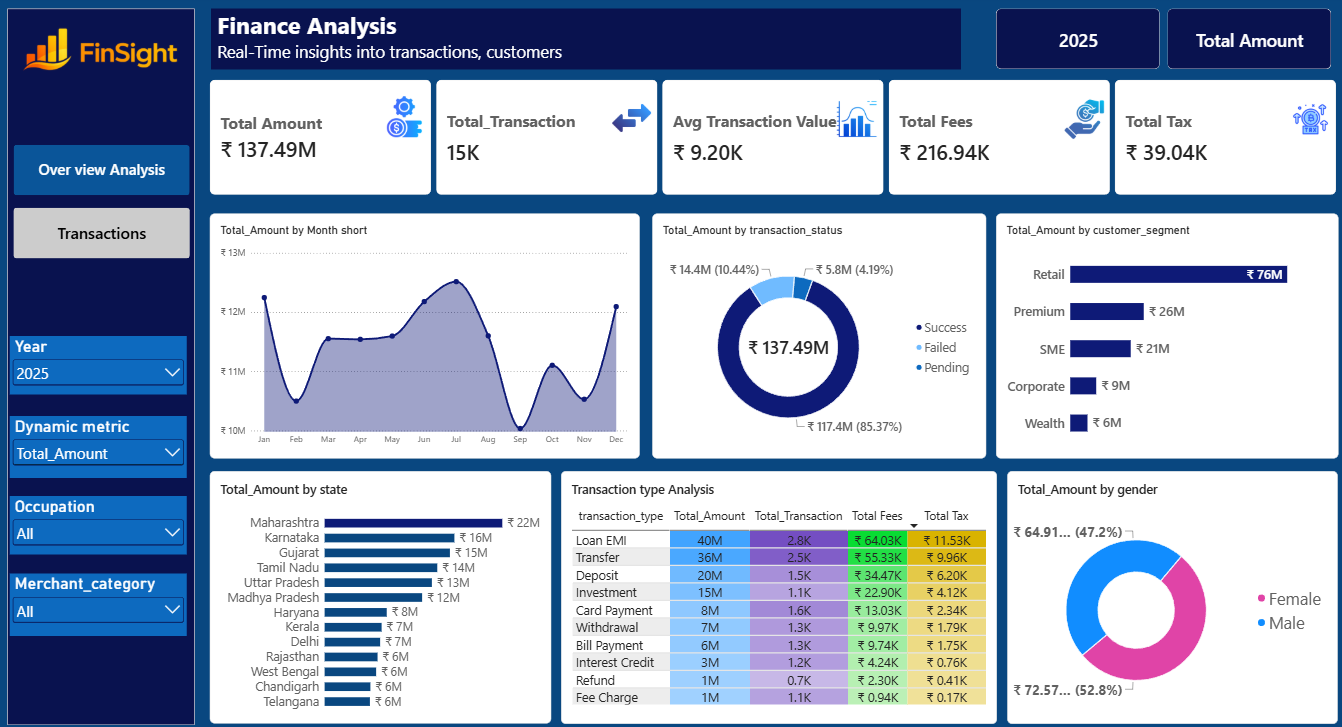

What the dashboard file says about the page in this screenshot:
{"tool":"powerbi","page":{"name":"Over view Analysis","canvas":[2200,1190],"ordinal":0},"visuals":[{"type":"cardVisual","fields":{"Data":["finance_transactions.Total_Amount","finance_transactions.Total_Transaction","finance_transactions.Avg Transaction Value","finance_transactions.Total fees","finance_transactions.Total Tax"]},"box":[350,134.9,1806,184],"z":0},{"type":"areaChart","fields":{"Y":["finance_transactions.Total_Amount"],"Category":["Calendar_Table.Month short"]},"box":[350,348.9,688,392],"z":1000},{"type":"clusteredBarChart","fields":{"Y":["finance_transactions.Total_Amount"],"Category":["customers.customer_segment"]},"box":[1608,348.9,548,392],"z":2000},{"type":"tableEx","title":"Transaction type Analysis","fields":{"Values":["finance_transactions.transaction_type","finance_transactions.Total_Amount","finance_transactions.Total_Transaction","finance_transactions.Total Fees","finance_transactions.Total Tax"]},"box":[911.1,760.9,697.8,404.4],"z":3000},{"type":"donutChart","fields":{"Y":["finance_transactions.Total_Amount"],"Category":["customers.gender"]},"box":[1626.7,760.9,528.9,404.4],"z":4000},{"type":"donutChart","fields":{"Y":["finance_transactions.Total_Amount"],"Category":["finance_transactions.transaction_status"]},"box":[1058,348.9,534,392],"z":5000},{"type":"clusteredBarChart","fields":{"Y":["finance_transactions.Total_Amount"],"Category":["customers.state"]},"box":[350,760.9,546,404],"z":6000},{"type":"shape","box":[26.7,20,300,1146.7],"z":7000},{"type":"slicer","fields":{"Values":["customers.occupation"]},"box":[29.6,800.4,283.3,93.3],"z":8000},{"type":"slicer","fields":{"Values":["finance_transactions.merchant_category"]},"box":[29.6,923.8,283.3,100],"z":9000},{"type":"slicer","fields":{"Values":["Dynamic metric.Dynamic metric"]},"box":[29.6,671.6,283.3,98.9],"z":10000},{"type":"slicer","fields":{"Values":["Calendar_Table.Year"]},"box":[29.6,544.9,283.3,93.3],"z":11000},{"type":"pageNavigator","box":[35.6,237.8,282.2,182.2],"z":12000},{"type":"image","box":[28.9,35.6,300,100],"z":13000},{"type":"textbox","box":[352.1,20.8,1200,97.9],"z":14000},{"type":"cardVisual","fields":{"Data":["finance_transactions.Selected Year","finance_transactions.Selected Dynamic Measure"]},"box":[1607.5,20,537.5,97.5],"z":15000},{"type":"image","box":[628.9,138.9,66,110.4],"z":16000},{"type":"image","box":[992.2,140,66,110],"z":17000},{"type":"image","box":[1352.9,141.4,66.7,110],"z":18000},{"type":"image","box":[1715.7,141.4,66,110],"z":19000},{"type":"image","box":[2077.1,142.9,66,110],"z":20000}]}

Visuals, with their boxes in screenshot pixels (x1, y1, x2, y2), scaled from the page's 2200x1190 canvas onto the 1342x727 screenshot:
cardVisual - finance_transactions.Total_Amount x finance_transactions.Total_Transaction: bbox=[214, 82, 1315, 195]
areaChart - finance_transactions.Total_Amount x Calendar_Table.Month short: bbox=[214, 213, 633, 453]
clusteredBarChart - finance_transactions.Total_Amount x customers.customer_segment: bbox=[981, 213, 1315, 453]
"Transaction type Analysis" tableEx: bbox=[556, 465, 981, 712]
donutChart - finance_transactions.Total_Amount x customers.gender: bbox=[992, 465, 1315, 712]
donutChart - finance_transactions.Total_Amount x finance_transactions.transaction_status: bbox=[645, 213, 971, 453]
clusteredBarChart - finance_transactions.Total_Amount x customers.state: bbox=[214, 465, 547, 712]
shape: bbox=[16, 12, 199, 713]
slicer - customers.occupation: bbox=[18, 489, 191, 546]
slicer - finance_transactions.merchant_category: bbox=[18, 564, 191, 625]
slicer - Dynamic metric.Dynamic metric: bbox=[18, 410, 191, 471]
slicer - Calendar_Table.Year: bbox=[18, 333, 191, 390]
pageNavigator: bbox=[22, 145, 194, 257]
image: bbox=[18, 22, 201, 83]
textbox: bbox=[215, 13, 947, 73]
cardVisual - finance_transactions.Selected Year x finance_transactions.Selected Dynamic Measure: bbox=[981, 12, 1308, 72]
image: bbox=[384, 85, 424, 152]
image: bbox=[605, 86, 646, 153]
image: bbox=[825, 86, 866, 154]
image: bbox=[1047, 86, 1087, 154]
image: bbox=[1267, 87, 1307, 155]
